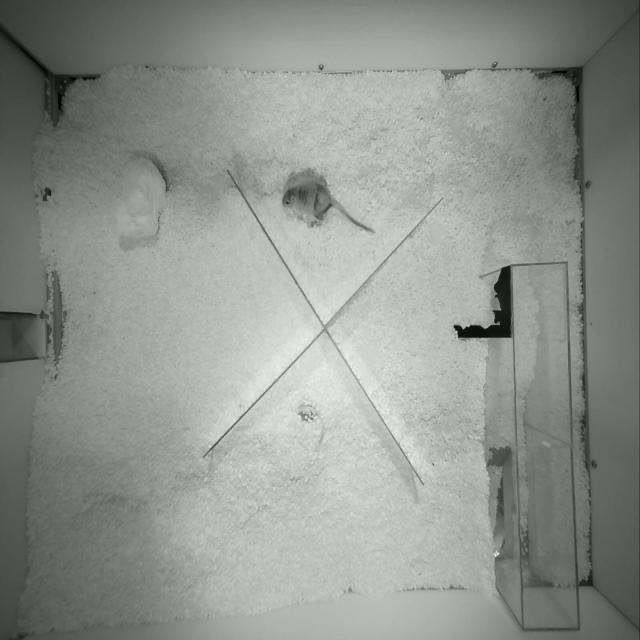adult_back: (282, 180, 374, 232)
